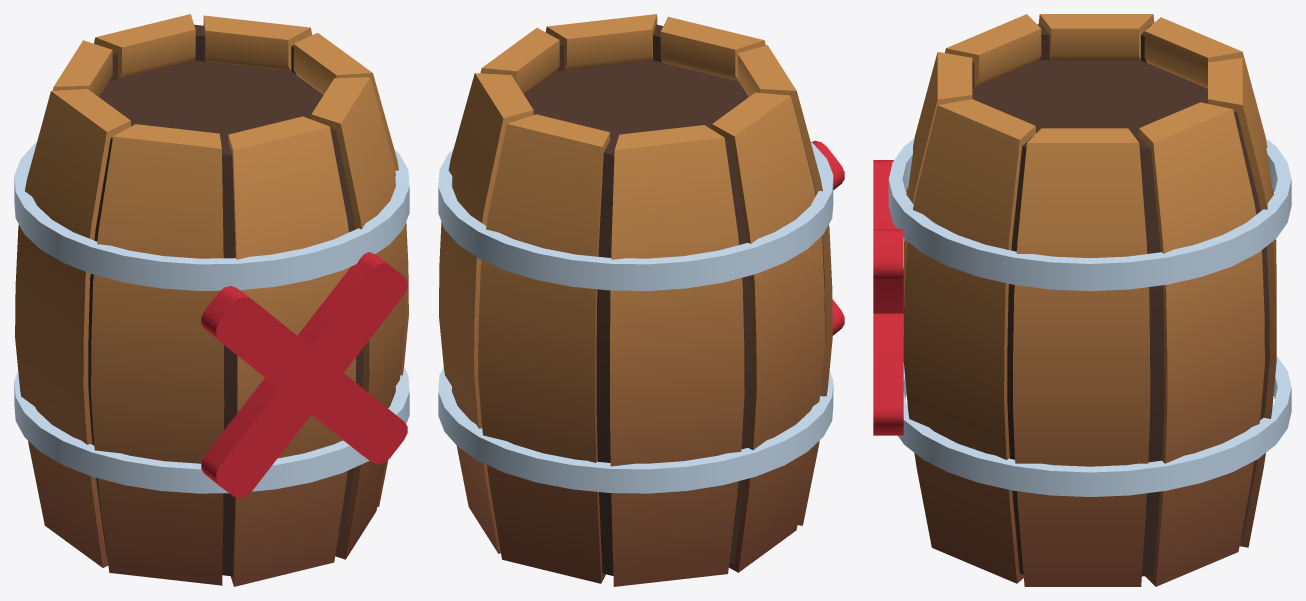
File: BinBarrel.glb
The picture shows the model from 3 angles, left to right: view 1: azimuth 30°, elevation 25°; view 2: azimuth 150°, elevation 25°; view 3: azimuth 270°, elevation 25°; orthographic projection.
Visible parts, largest first — view 1: BinBarrel, BinBarrelRIngs; view 2: BinBarrel, BinBarrelRIngs; view 3: BinBarrel, BinBarrelRIngs.
Boxes of the visible parts, x1,y1,x2,y2 form: BinBarrel: [15, 14, 408, 586]; BinBarrelRIngs: [14, 142, 409, 493]; BinBarrel: [439, 14, 844, 586]; BinBarrelRIngs: [438, 142, 833, 493]; BinBarrel: [873, 14, 1276, 586]; BinBarrelRIngs: [888, 138, 1291, 496].
Bounding box in the file's own units: 0.8225 × 0.995 × 0.8539.
